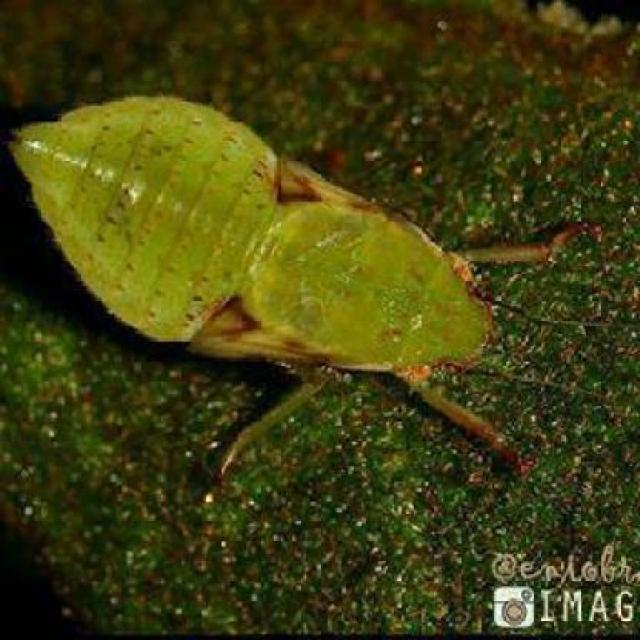green-leafhopper: (14, 86, 604, 479)
